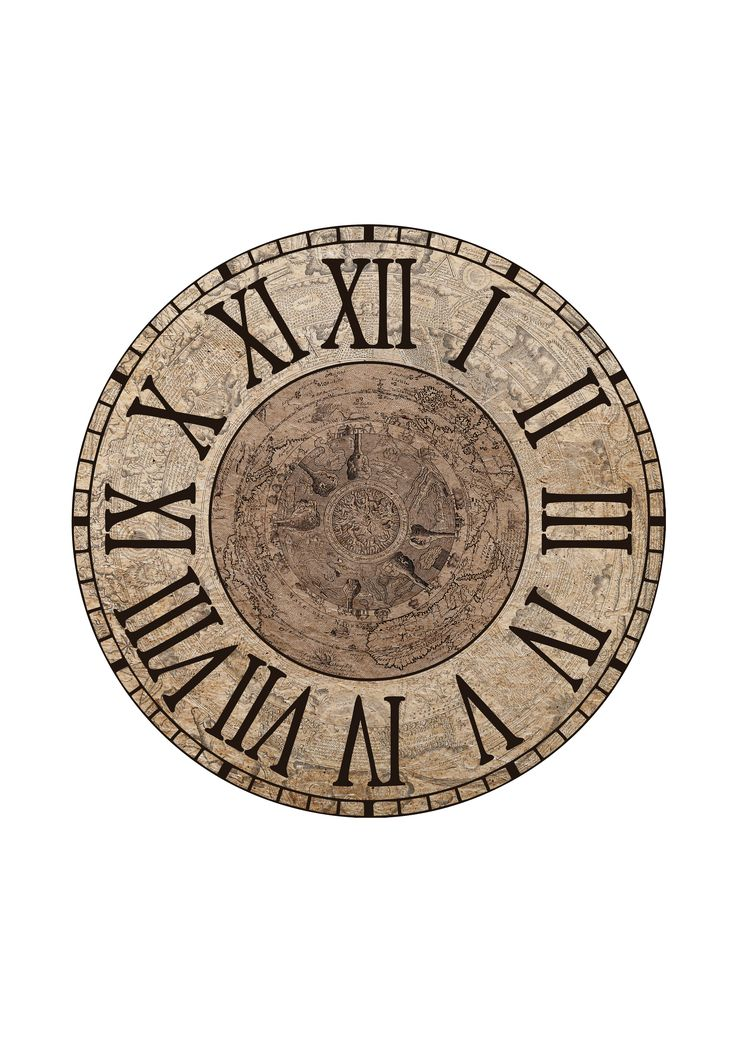clock: (55, 208, 708, 840)
